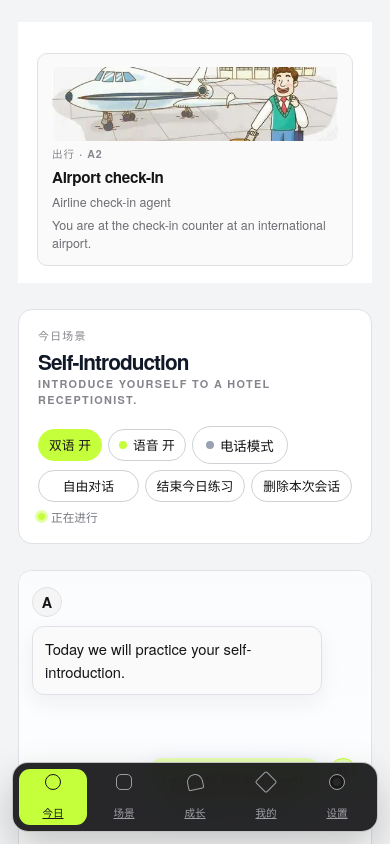
Test case: lets the user manually complete today's practice and shows summary
The width and height of the screenshot is (390, 844).
Check: the text "I want to book a room." is shown, box [162, 769, 307, 792]
Click the button "结束今日练习". click: (195, 486)
box: [145, 470, 245, 502]
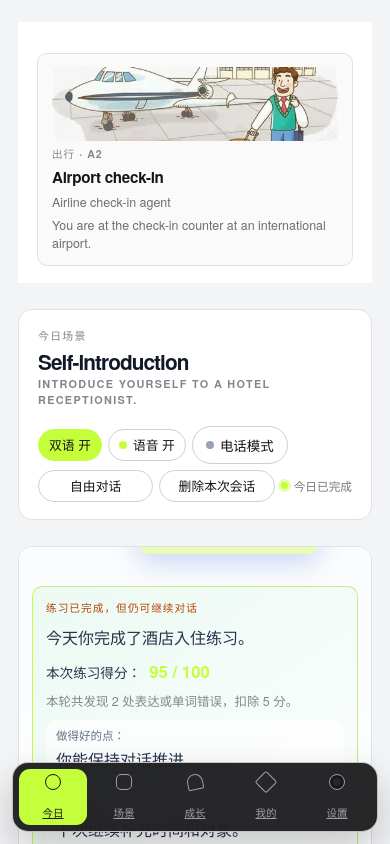
Check: the text "今日已完成" is shown, box [281, 477, 352, 495]
Check: the text "今天你完成了酒店入住练习。" is shown, box [46, 626, 254, 649]
Check: the text "95 / 100" is shown, box [149, 659, 210, 684]
